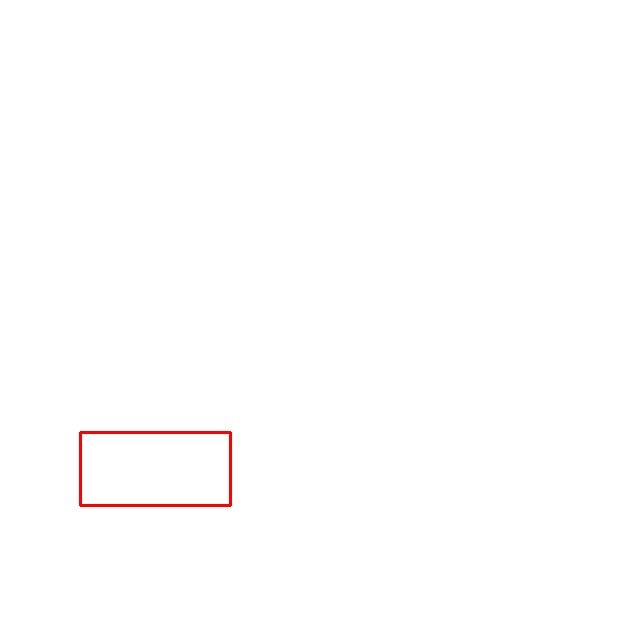weapon: (81, 433, 230, 506)
